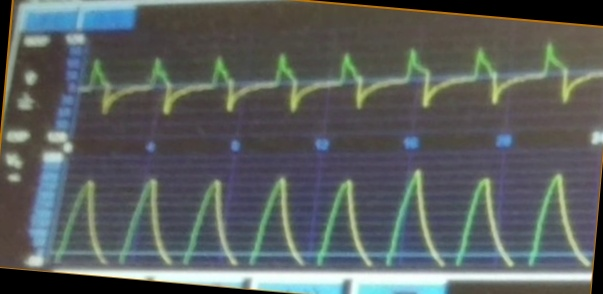Accumulation Flow: (88, 30, 598, 130)
Volume: (67, 167, 587, 268)
